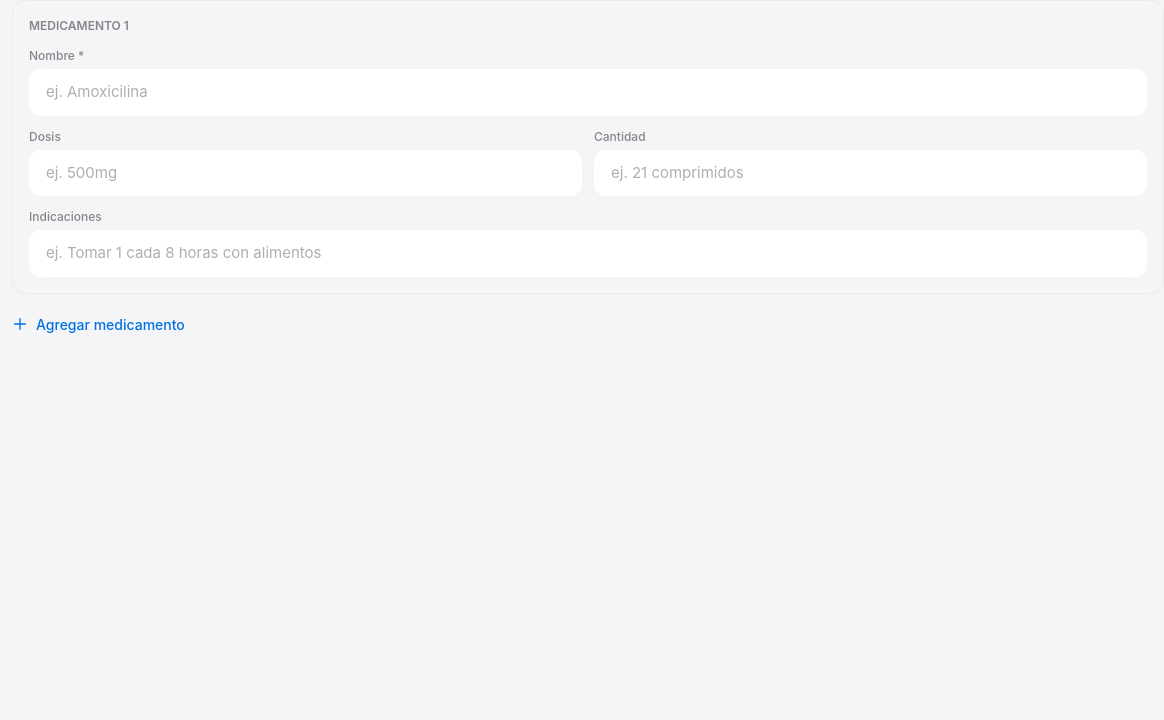
ItemsArray › adds a second item when clicking "Agregar medicamento"
What coordinates should you click on to do the following:
click the button "Agregar medicamento"
I would click on:
 (98, 324)
Its box is [12, 306, 185, 342].
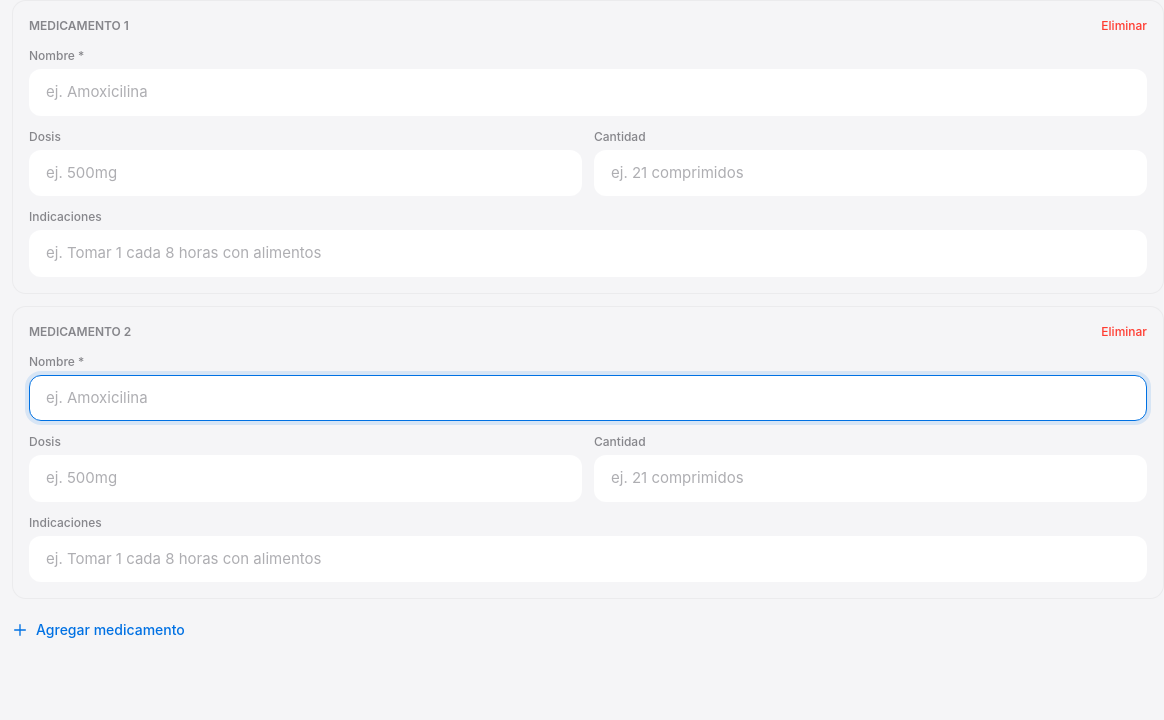
Expected: the text "MEDICAMENTO 1" is shown, [29, 17, 129, 35]
Expected: the text "MEDICAMENTO 2" is shown, [29, 322, 131, 340]
